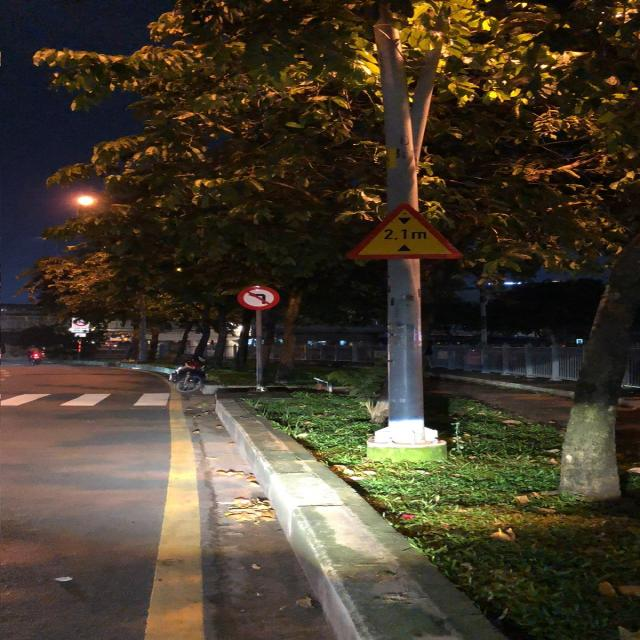Bien bao cam re trai: (232, 283, 290, 313)
Bien bao chieu cao tinh khong thuc te: (336, 203, 477, 268)
